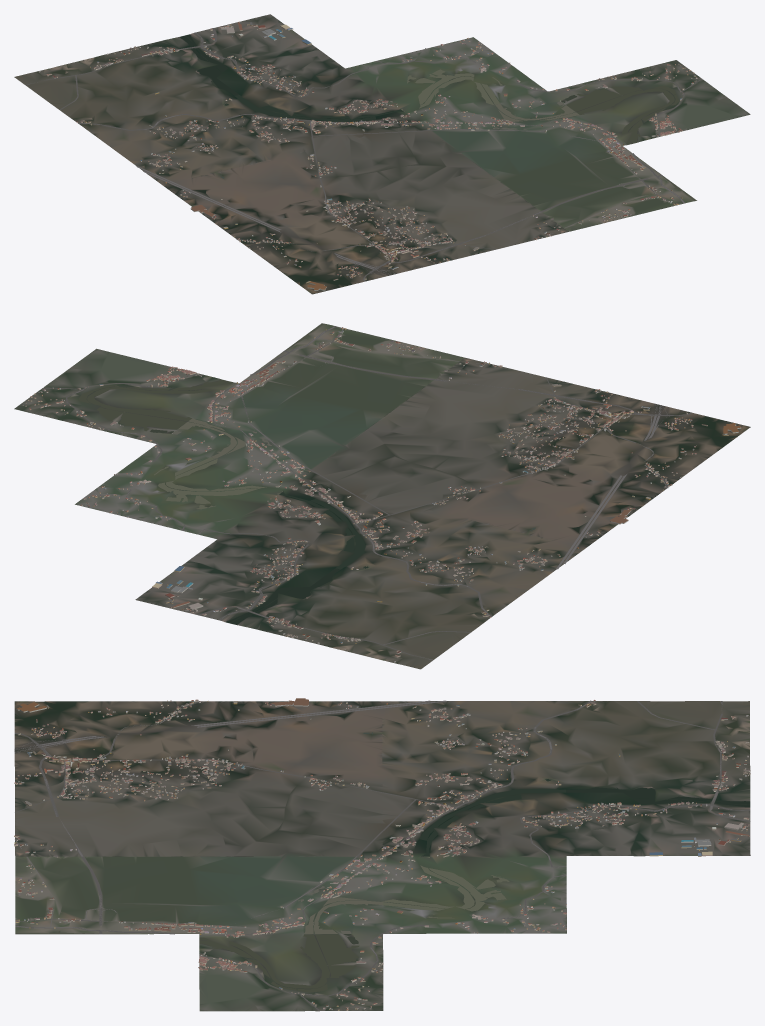
3 renders of one model, top to bottom at view 1: azimuth 30°, elevation 25°; view 2: azimuth 150°, elevation 25°; view 3: azimuth 270°, elevation 25°, orthographic. The views are drawn at different scales.
Parts seen in each view (by area): view 1: ground, buildings, water, roads; view 2: ground, buildings, water, roads; view 3: ground, buildings, water, roads.
Boxes of the visible parts, x1,y1,x2,y2 form: ground: [14, 14, 750, 294]; buildings: [39, 21, 697, 290]; water: [180, 34, 696, 200]; roads: [25, 28, 701, 281]; ground: [14, 323, 750, 669]; buildings: [22, 327, 741, 662]; water: [79, 323, 535, 624]; roads: [42, 326, 692, 660]; ground: [14, 701, 750, 1011]; buildings: [14, 698, 750, 1010]; water: [15, 732, 750, 992]; roads: [14, 700, 750, 1010].
Bounding box in the file's own units: 5632 × 34.38 × 5620.
